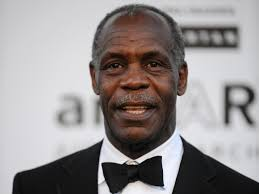black_male: (94, 14, 181, 145)
